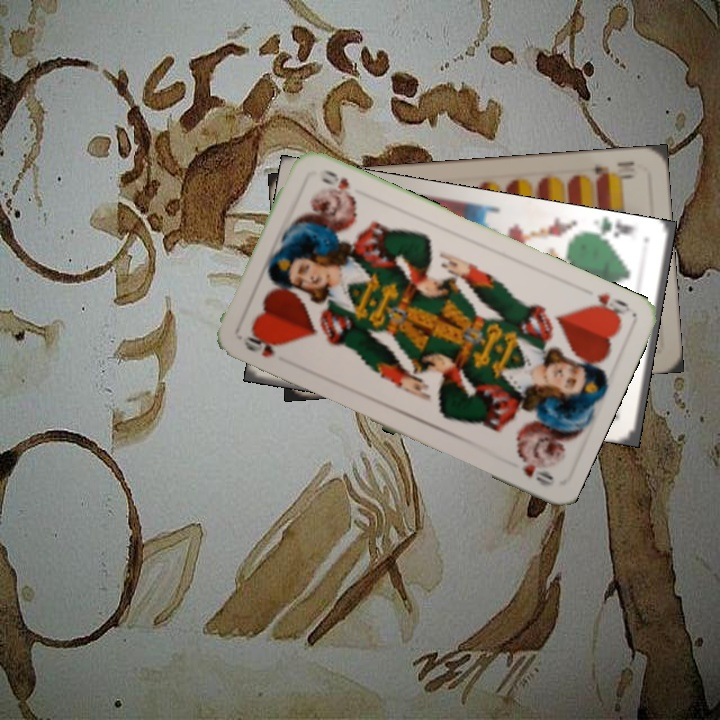E10: (590, 157, 638, 183)
GK: (588, 217, 637, 245)
HO: (582, 289, 633, 323), (239, 331, 278, 360)
